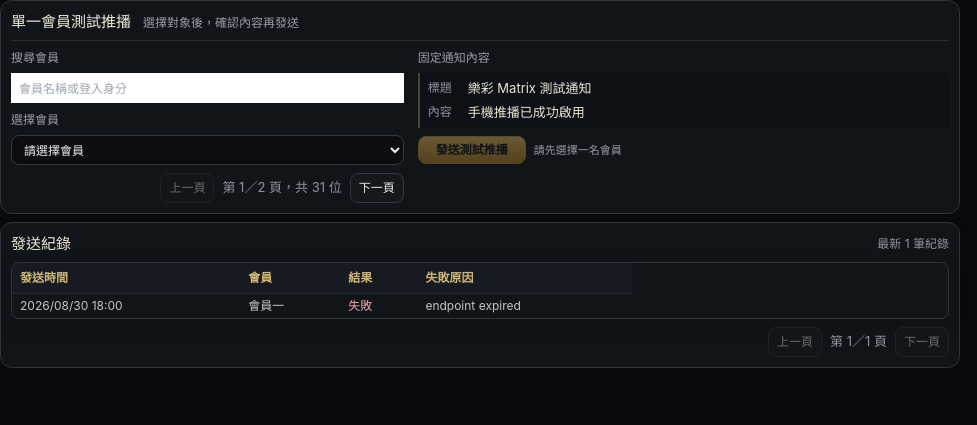
Scenario: NotificationManagement › preserves the explicitly selected recipient across pages and refreshes only that recipient after sending
Select "會員一" in the dropdown named "選擇會員": (207,150) [11,135,404,165]
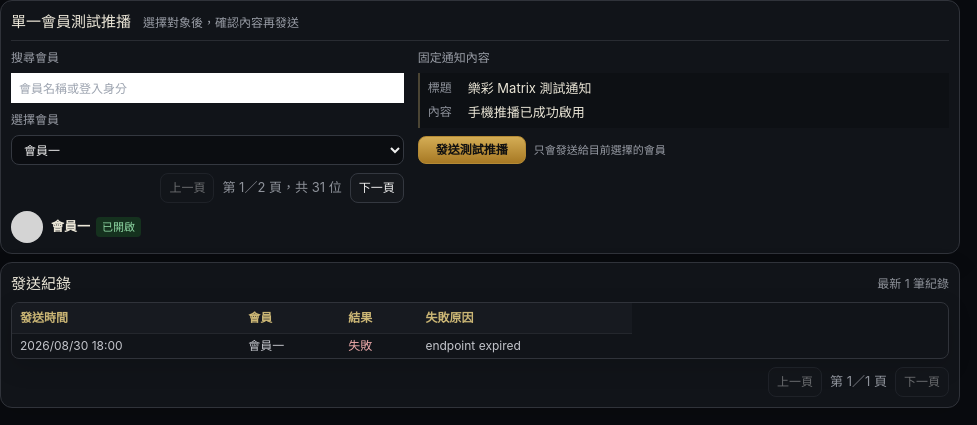
Click the button "下一頁" in the row of "31": (377,188) [350,173,404,203]
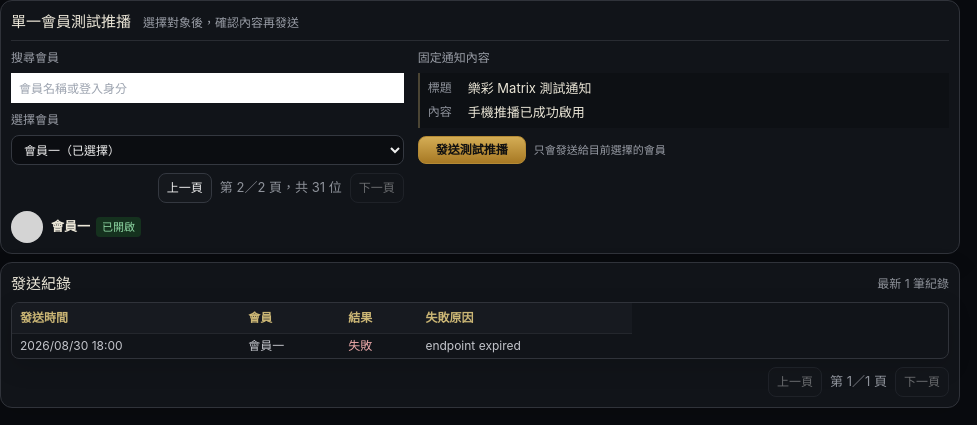
Now the element with class "notificationMemberSummary" shows "會員一", box [51,218,90,234]
Click the button "發送測試推播": (472,150) [418,136,526,164]
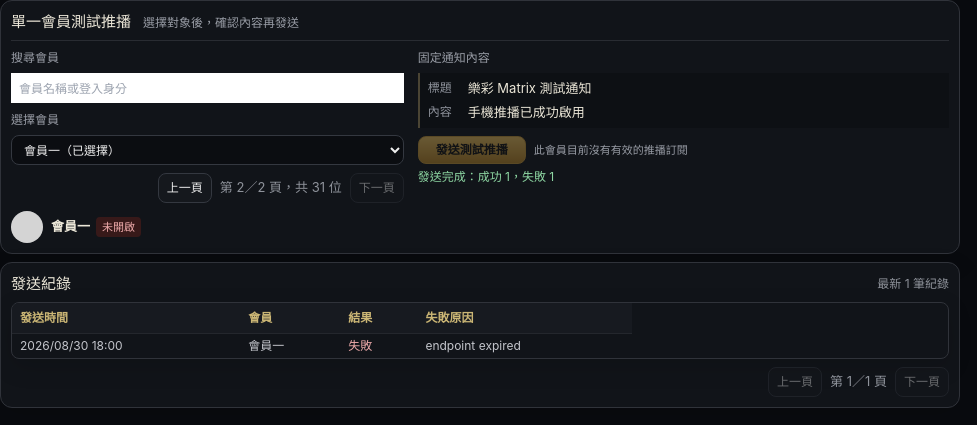
Now the button "發送測試推播" is disabled, box [418,136,526,164]
